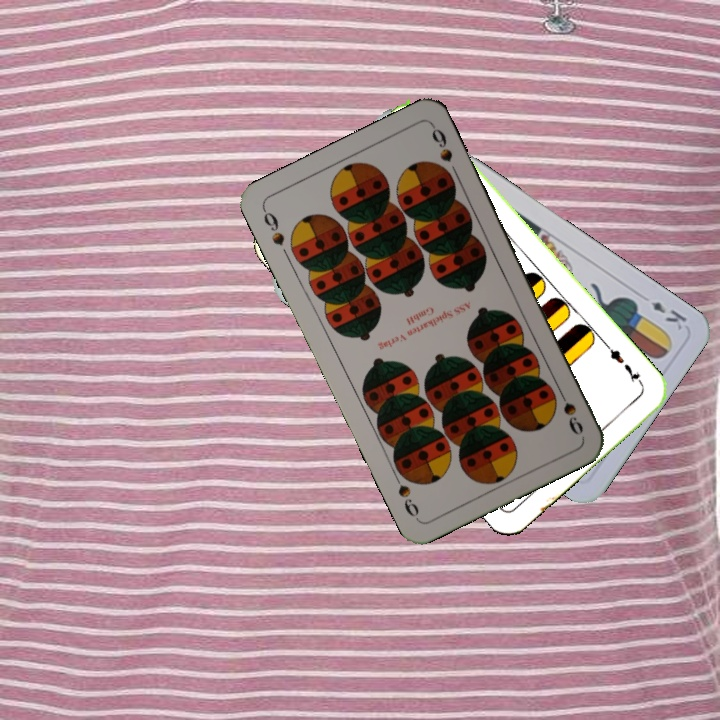E7: (602, 341, 646, 389)
EK: (647, 297, 690, 333)
S9: (553, 383, 586, 438), (258, 205, 288, 249)
